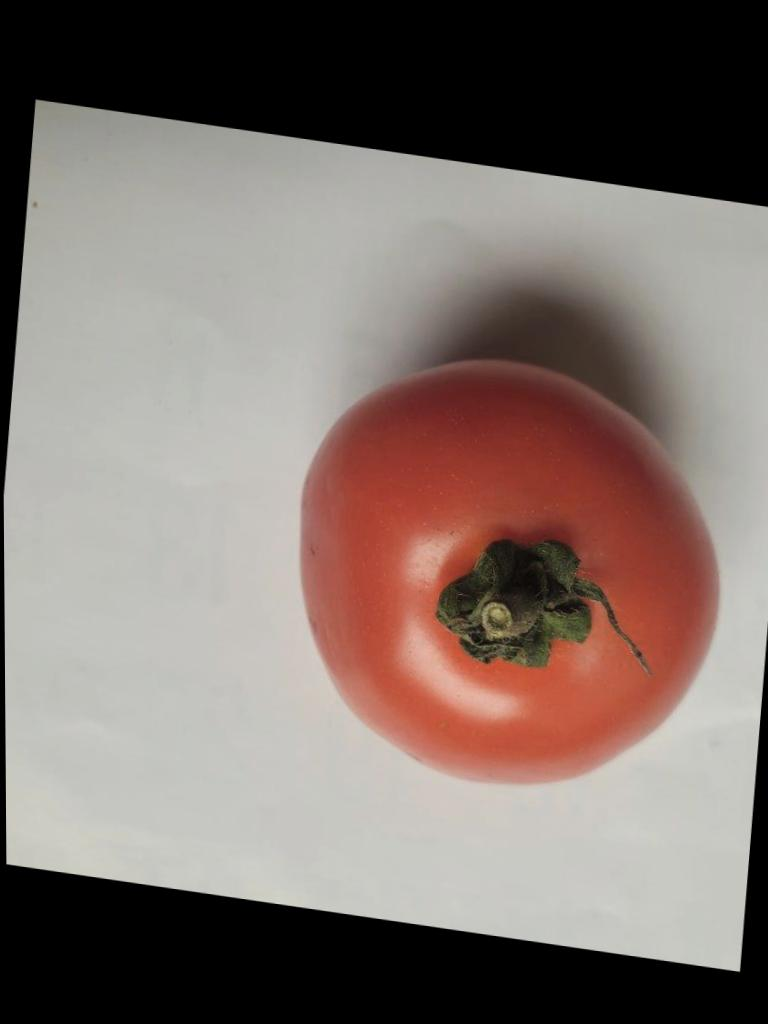tomato: (301, 359, 718, 782)
